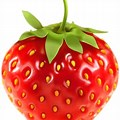Fresa: (3, 20, 120, 120)
